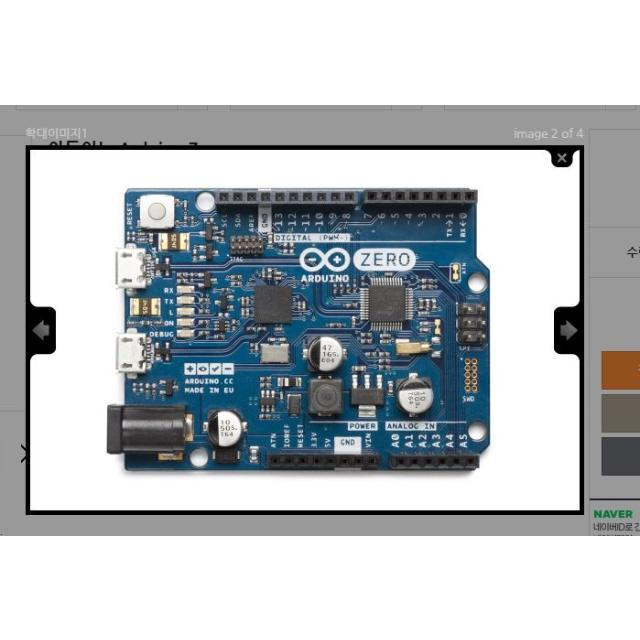Arduino-Zero: (109, 189, 490, 471)
